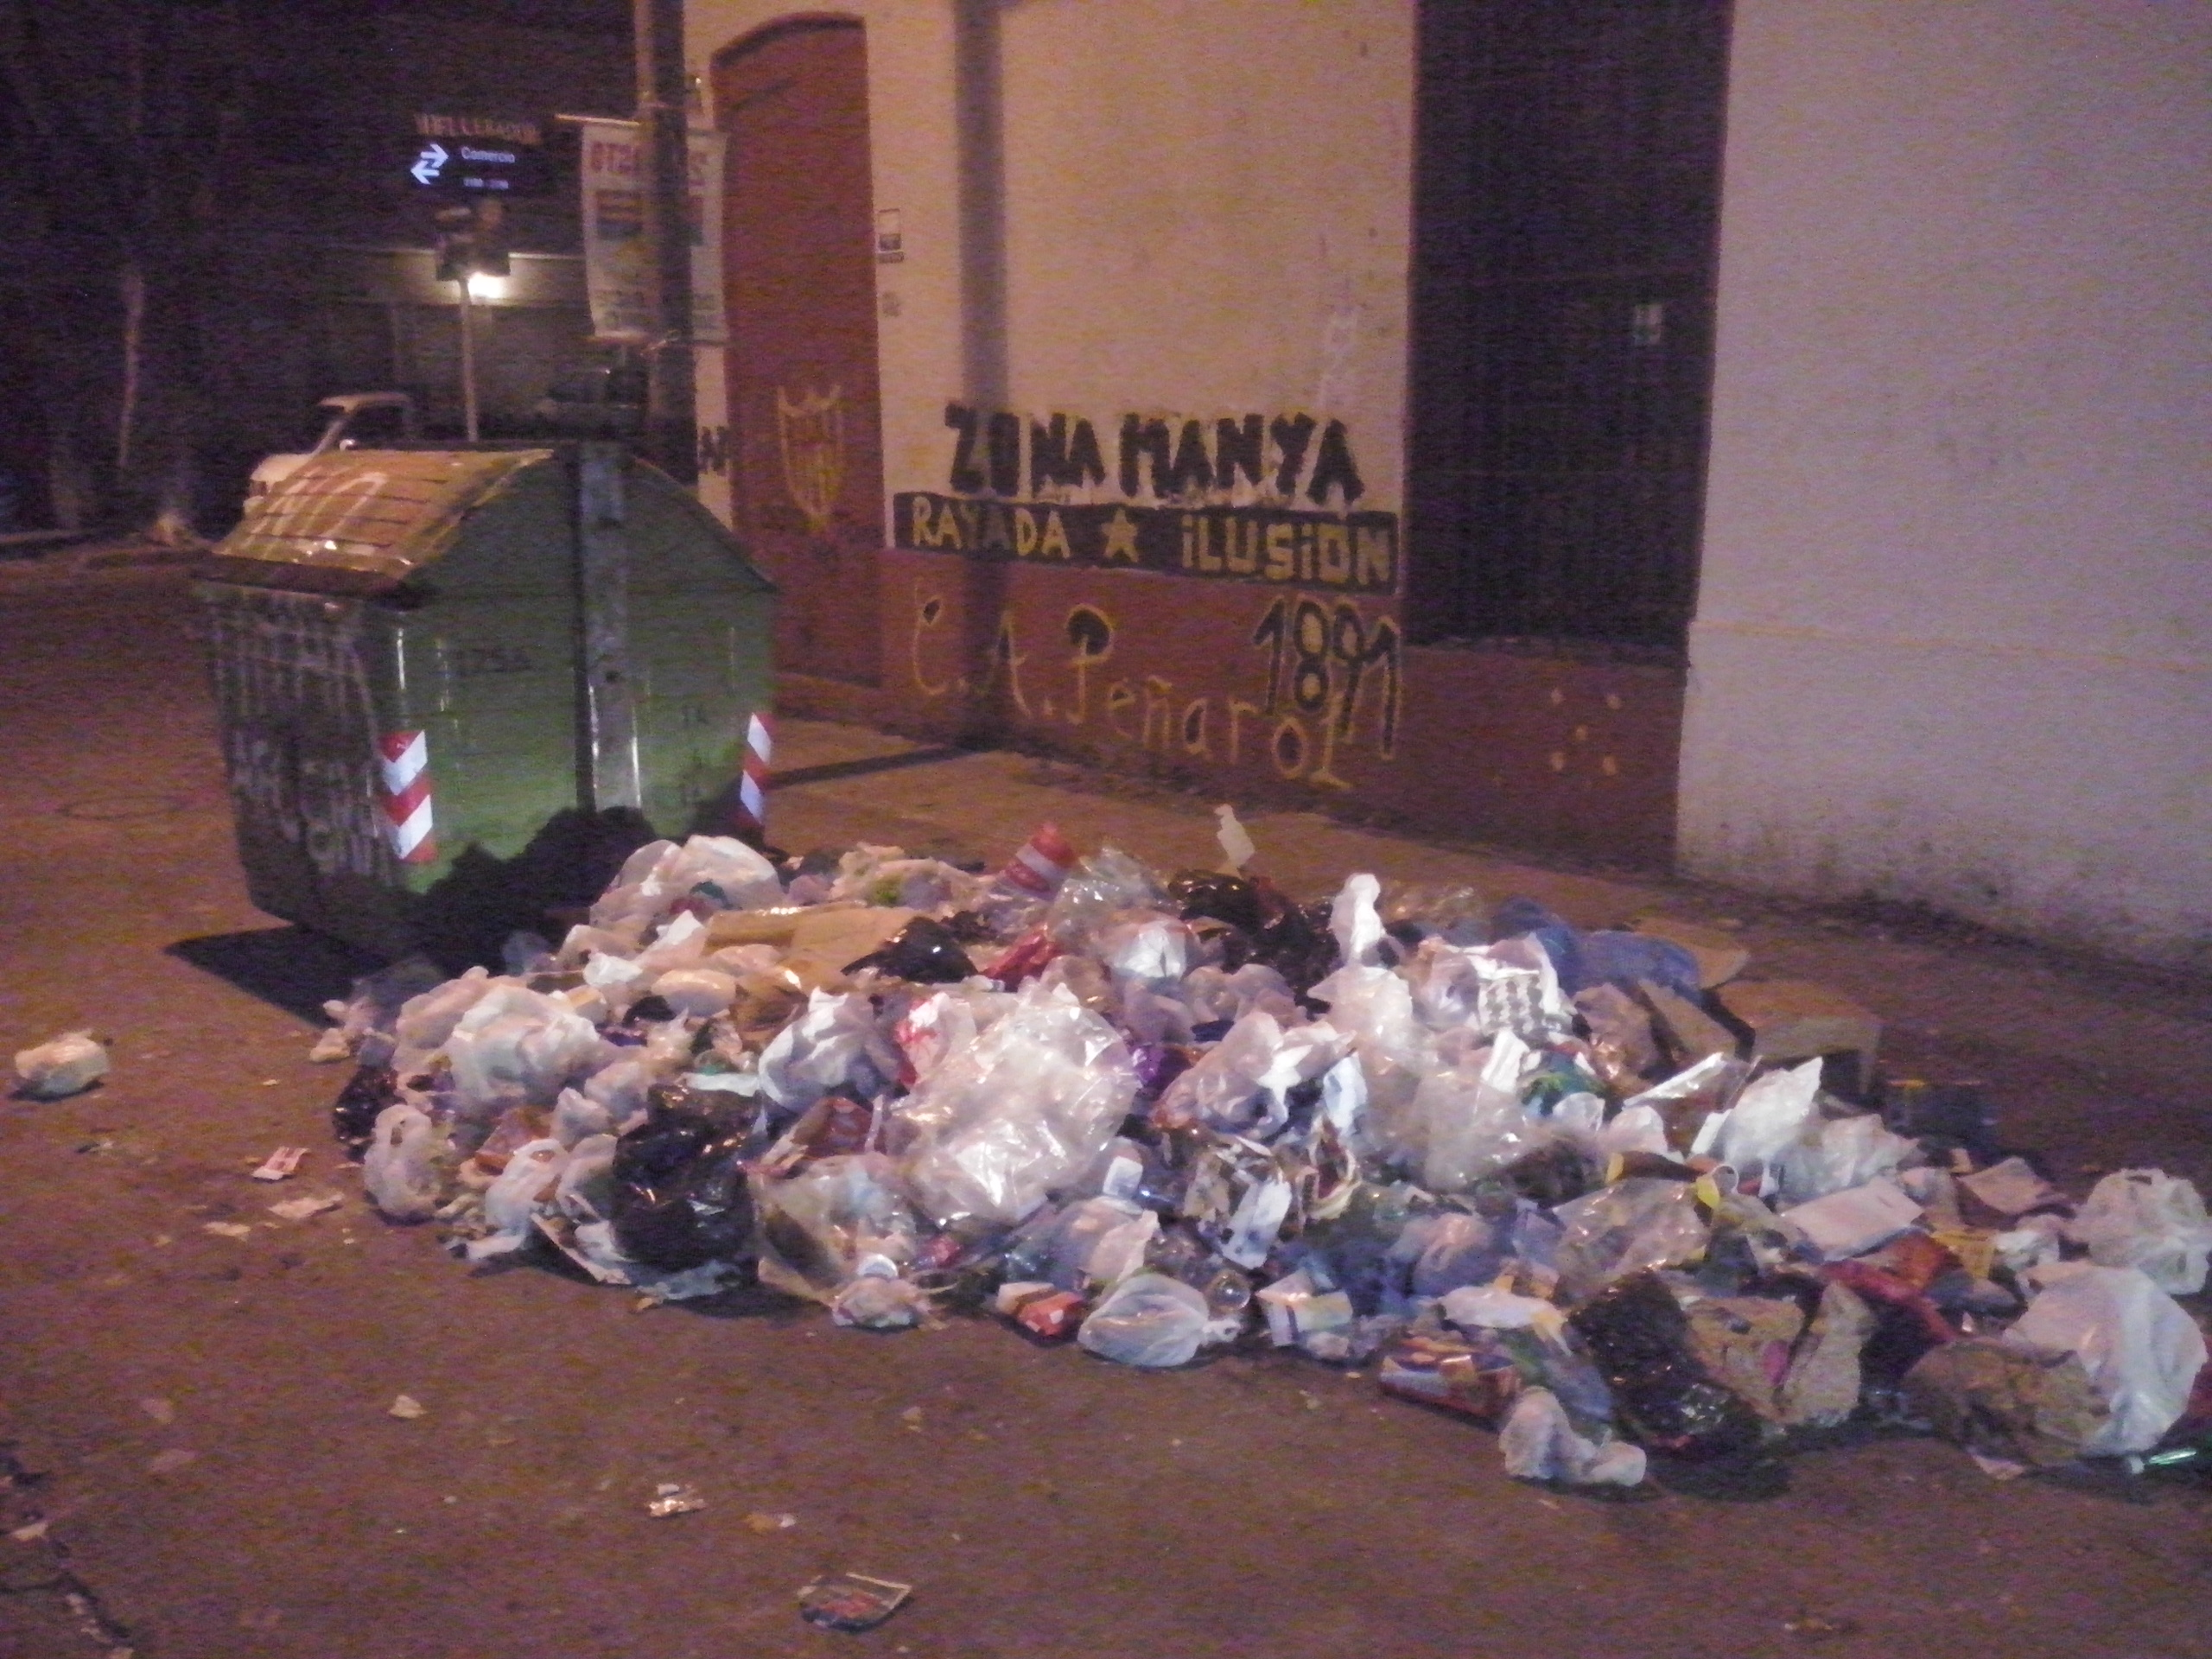container: (193, 425, 792, 985)
